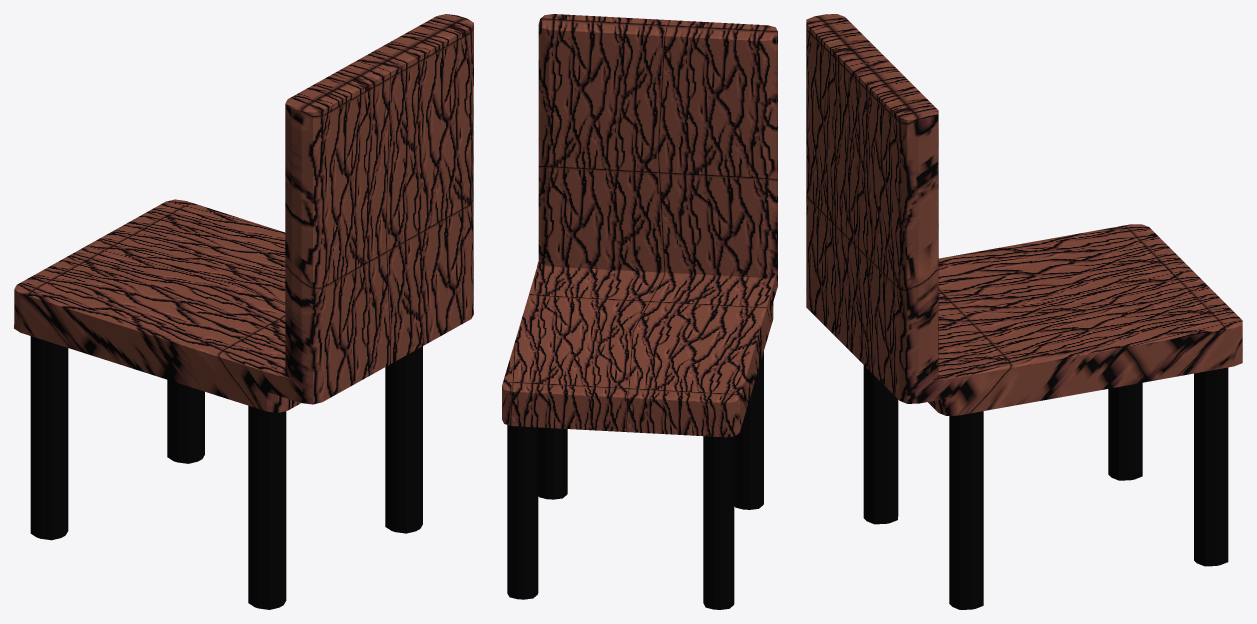
Rendered from Chair.glb.
The picture shows the model from 3 angles, left to right: view 1: azimuth 30°, elevation 25°; view 2: azimuth 150°, elevation 25°; view 3: azimuth 270°, elevation 25°; orthographic projection. The views are drawn at different scales.
Visible parts, largest first — view 1: Table.011; view 2: Table.011; view 3: Table.011.
Part boxes in pixels (box(x1,y1,x2,y2)): Table.011: box(14, 14, 473, 609); Table.011: box(502, 14, 777, 609); Table.011: box(806, 14, 1242, 609).
Size of the model in its own units: 9.09 by 13.26 by 10.43.
2 materials, 1 textured.
